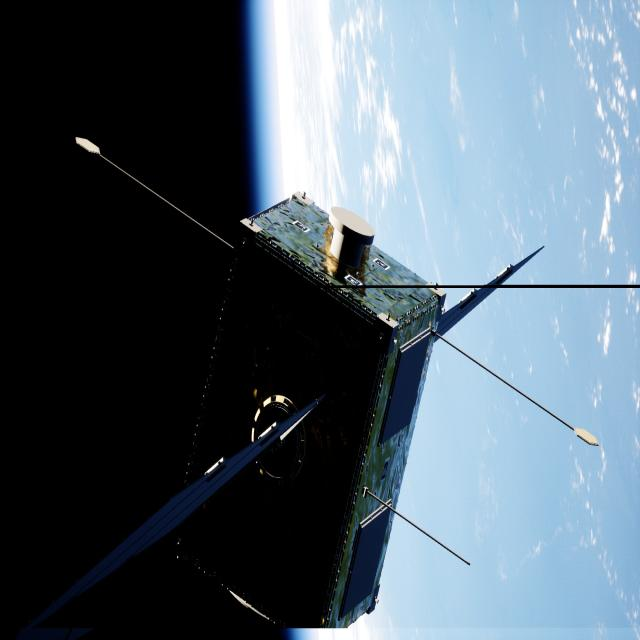satellite: (17, 139, 446, 640)
